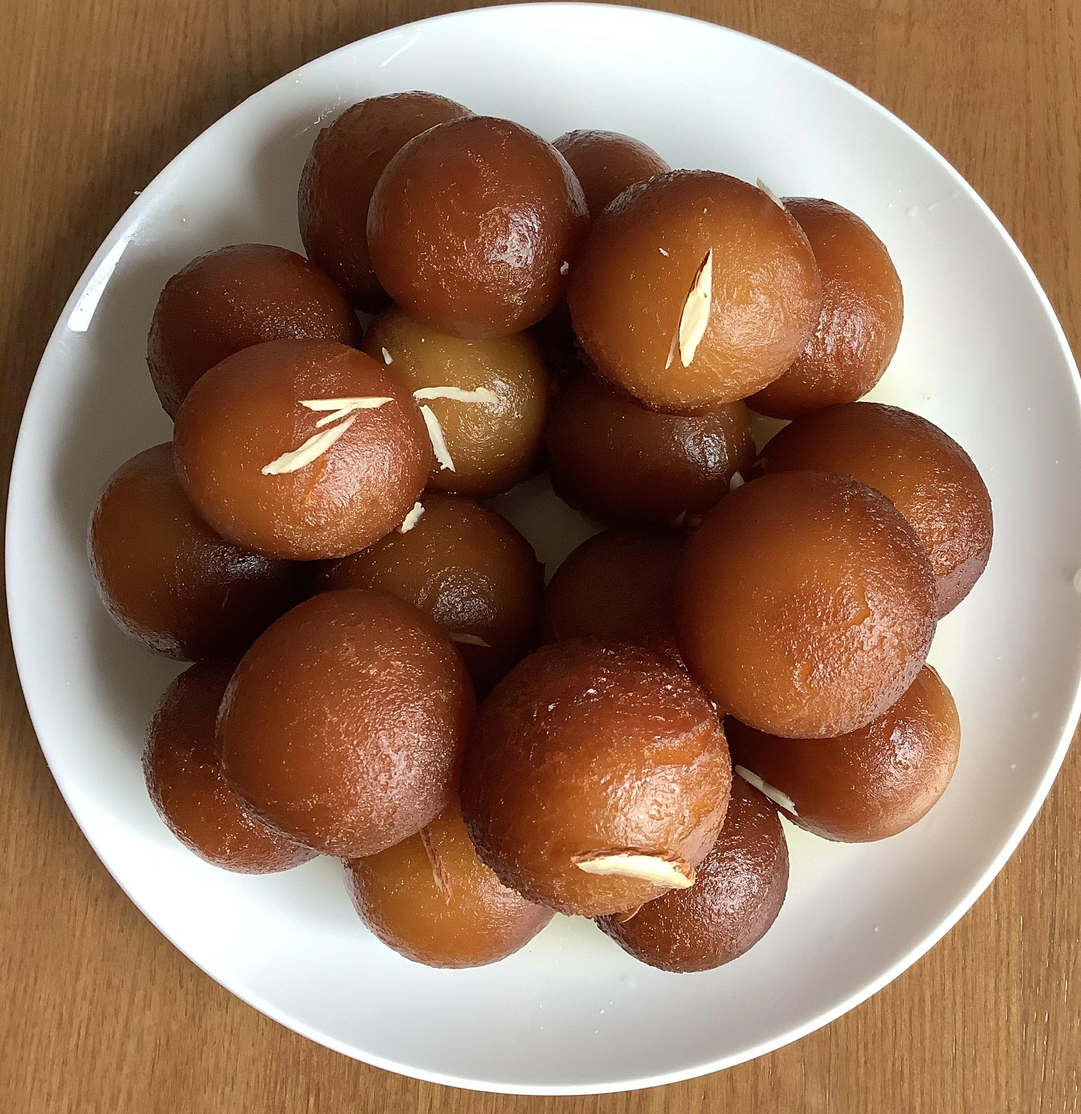GulabJamun: (464, 649, 741, 916), (200, 591, 473, 860), (686, 464, 937, 737), (175, 336, 430, 578), (576, 168, 813, 416), (361, 116, 584, 343), (784, 403, 1001, 625), (90, 423, 274, 660), (601, 775, 793, 976), (760, 656, 963, 844), (157, 237, 363, 412), (301, 87, 488, 275), (146, 687, 321, 880), (352, 804, 555, 965), (359, 491, 536, 674), (367, 318, 548, 495), (553, 375, 750, 527), (775, 199, 905, 401), (540, 529, 706, 656)
